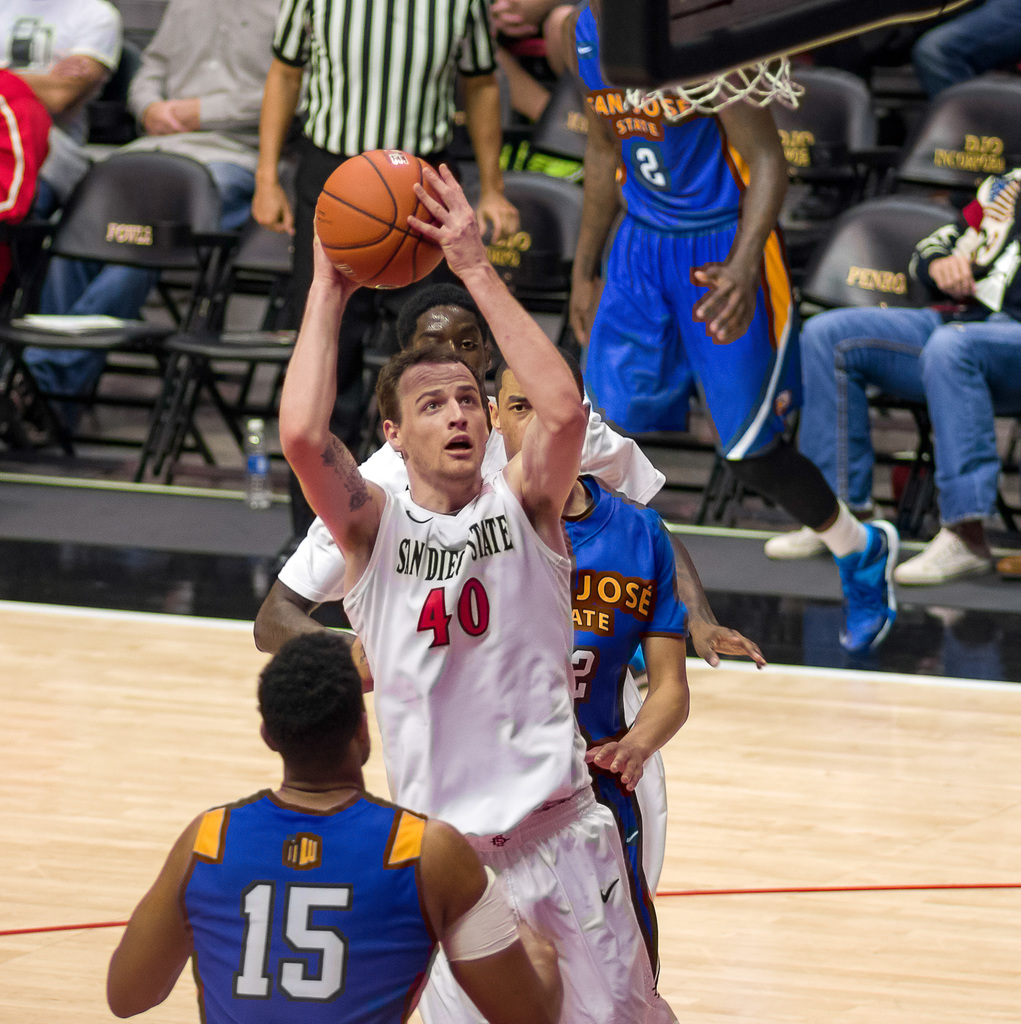Ball: (311, 148, 444, 293)
